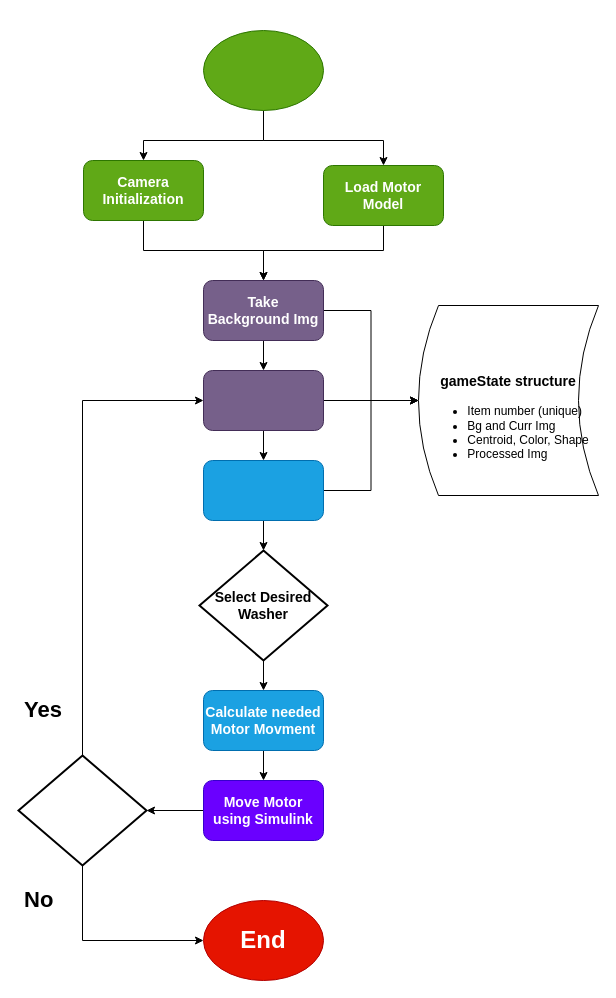
This 616x998 diagram has some shape labels left out. Here are the shapes that lost their labels. From the top down, the centre of each, then its label:
At (263,70): "Start".
At (263,400): "Take Current Img".
At (263,490): "Process difference".
At (82,810): "Another Frame needed?".
